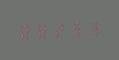eight: (34, 21, 49, 40)
nine: (66, 19, 81, 38)
three: (82, 18, 97, 38)
two: (50, 20, 65, 39)
zero: (18, 22, 33, 41)
